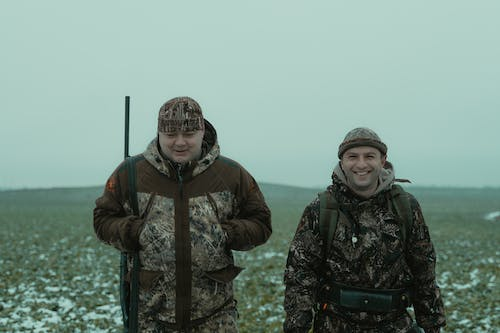gun: (118, 94, 132, 333)
